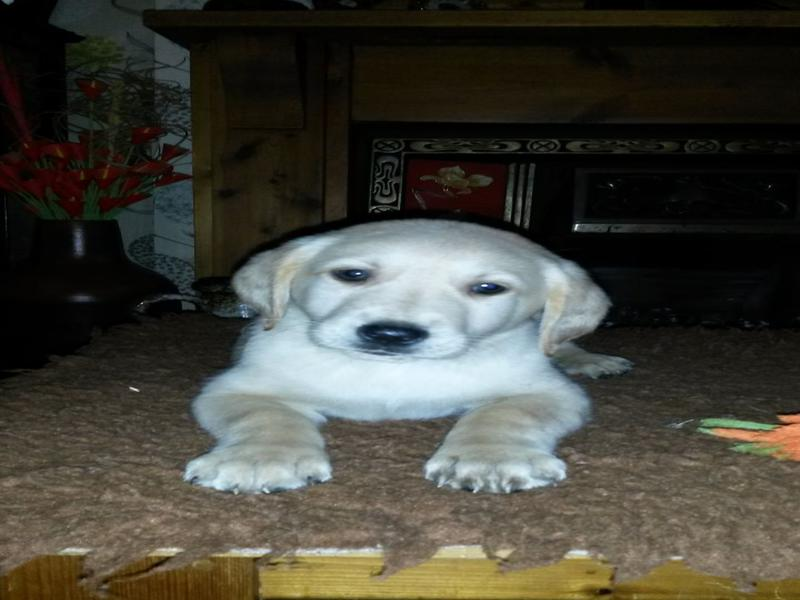dog_down: (186, 211, 637, 495)
